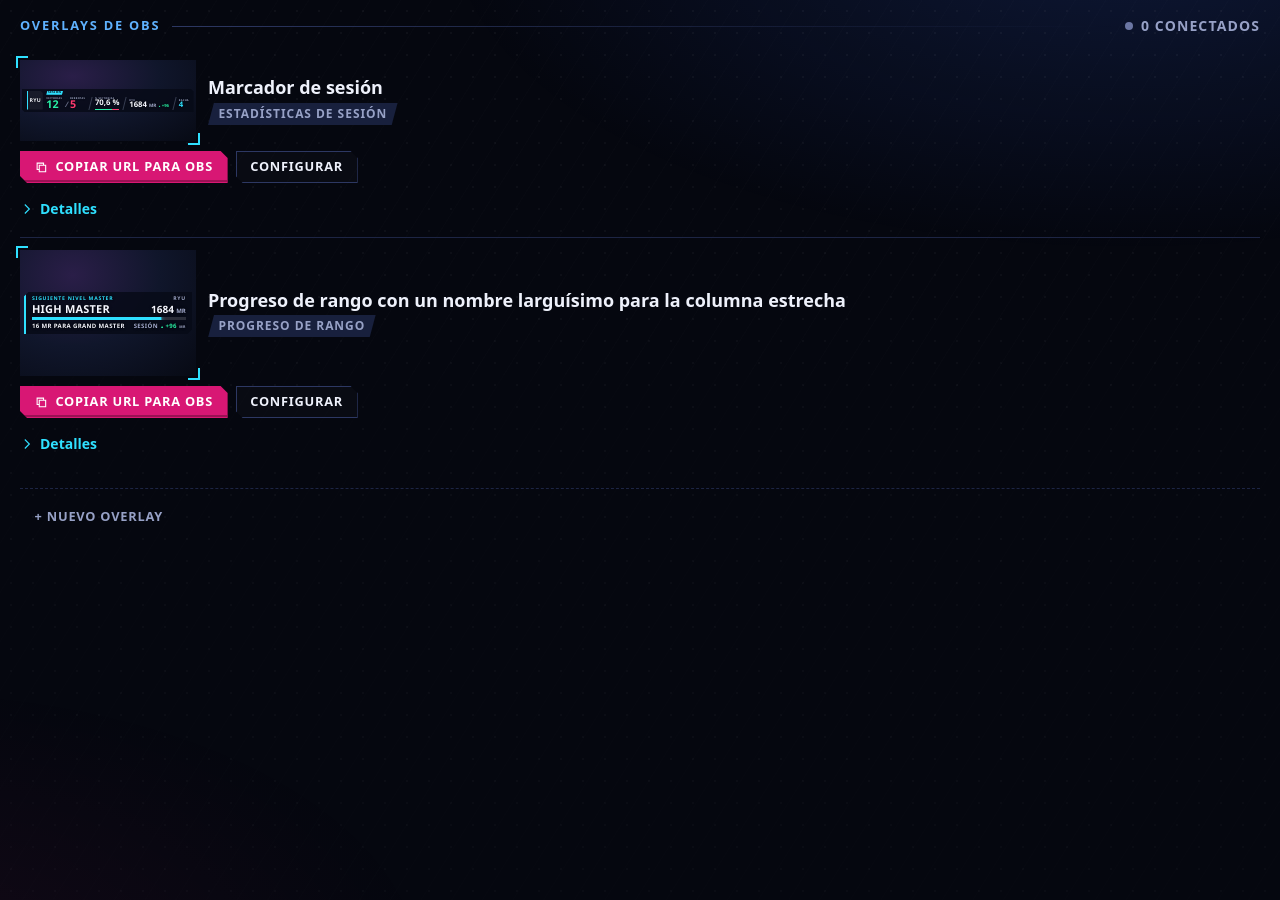
Test: compact overlay console › Copy OBS URL writes the exact current URL (token included)
Click the button "Copiar URL para OBS" below "Siguiente nivel Master" at (124, 402), box left=20, top=386, right=228, bottom=418
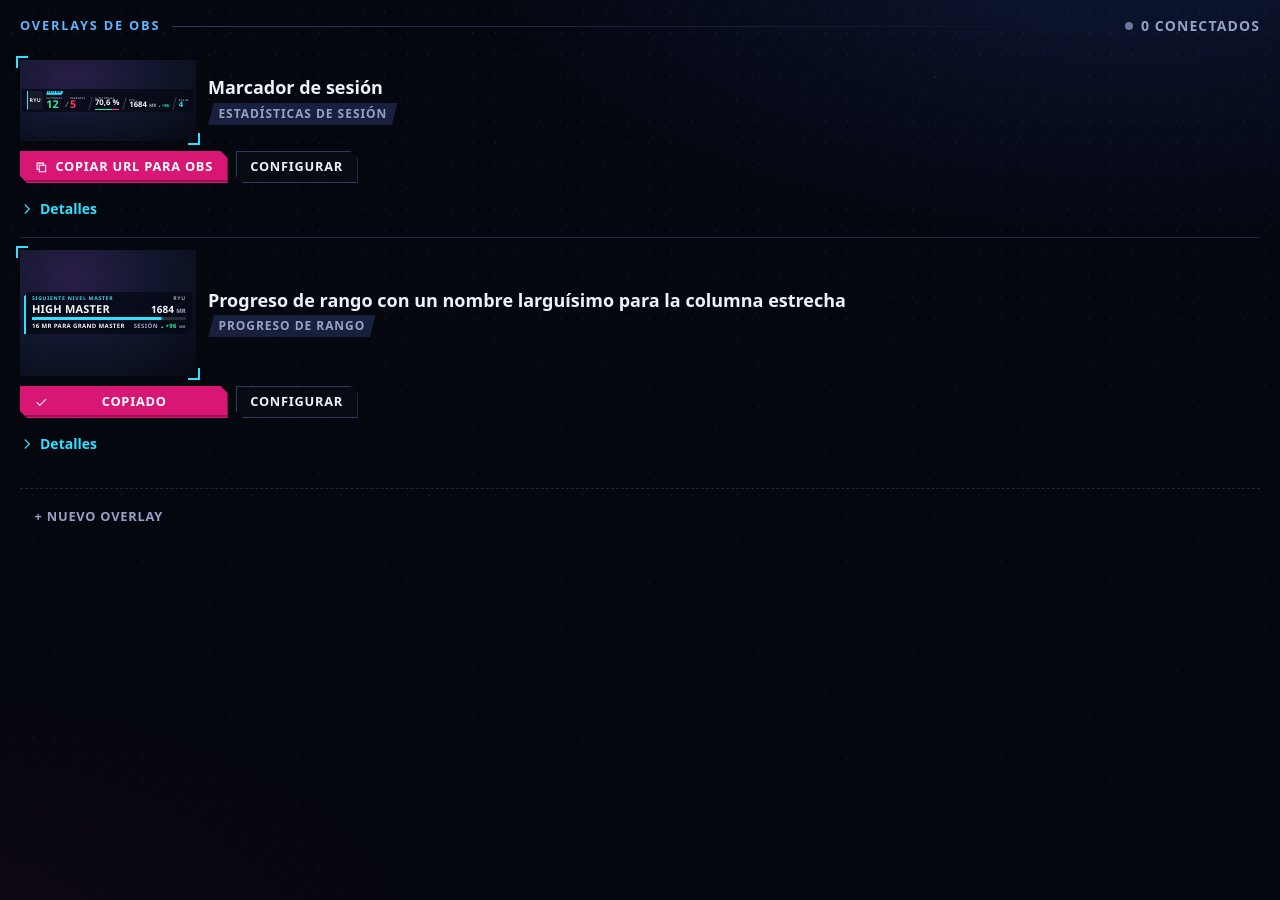
expect the 3rd icon is shown: met, box left=35, top=396, right=47, bottom=408
expect the text "Copiado" is shown: met, box left=102, top=392, right=167, bottom=410
